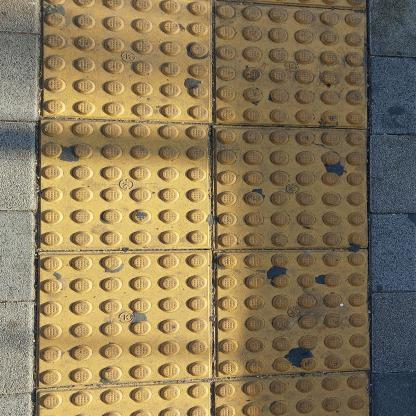podotacti: (19, 0, 383, 415)
